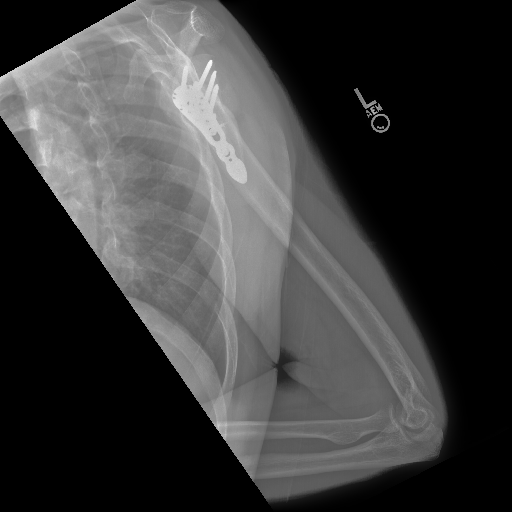implant: (171, 55, 249, 183)
